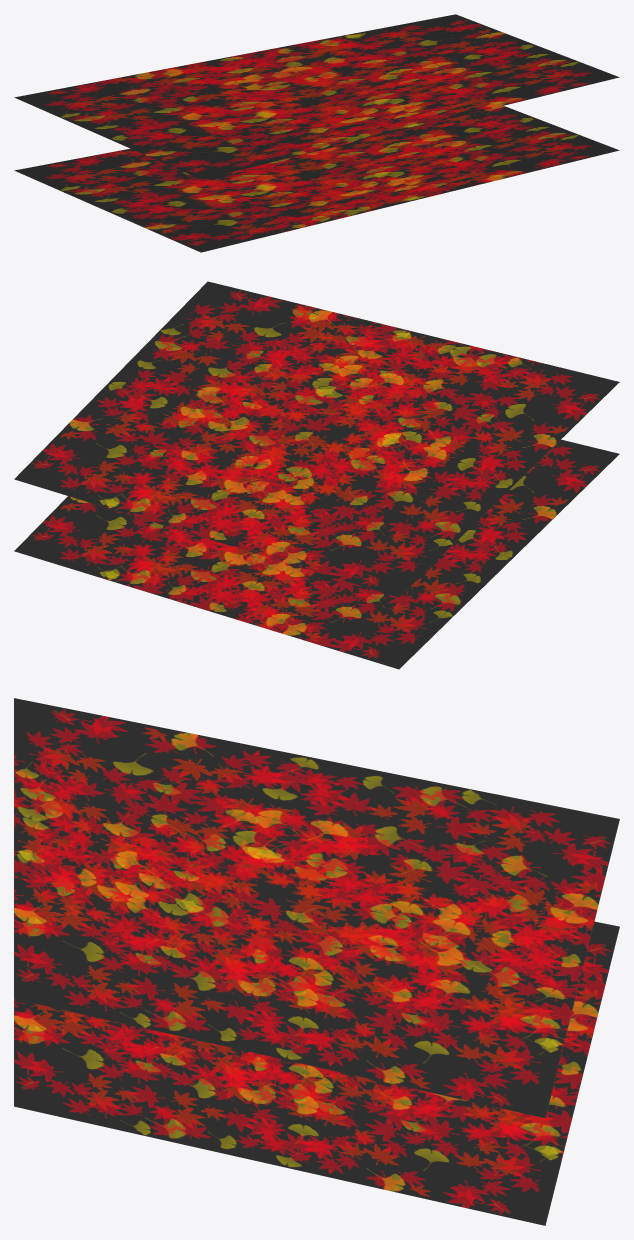
Rendered from CourseAki_CurveFloor_3_1.fbx.
3 views of the same model, one above another, from view 1: azimuth 30°, elevation 25°; view 2: azimuth 150°, elevation 25°; view 3: azimuth 270°, elevation 25° (orthographic). The views are drawn at different scales.
Parts seen in each view (by area): view 1: polySurface450; view 2: polySurface450; view 3: polySurface450.
Part boxes in pixels (box(x1,y1,x2,y2)): polySurface450: box(14, 14, 619, 252); polySurface450: box(14, 281, 619, 669); polySurface450: box(14, 698, 619, 1225).
Bounding box in the file's own units: 6.23 × 2 × 5.1.
1 material, 1 textured.
